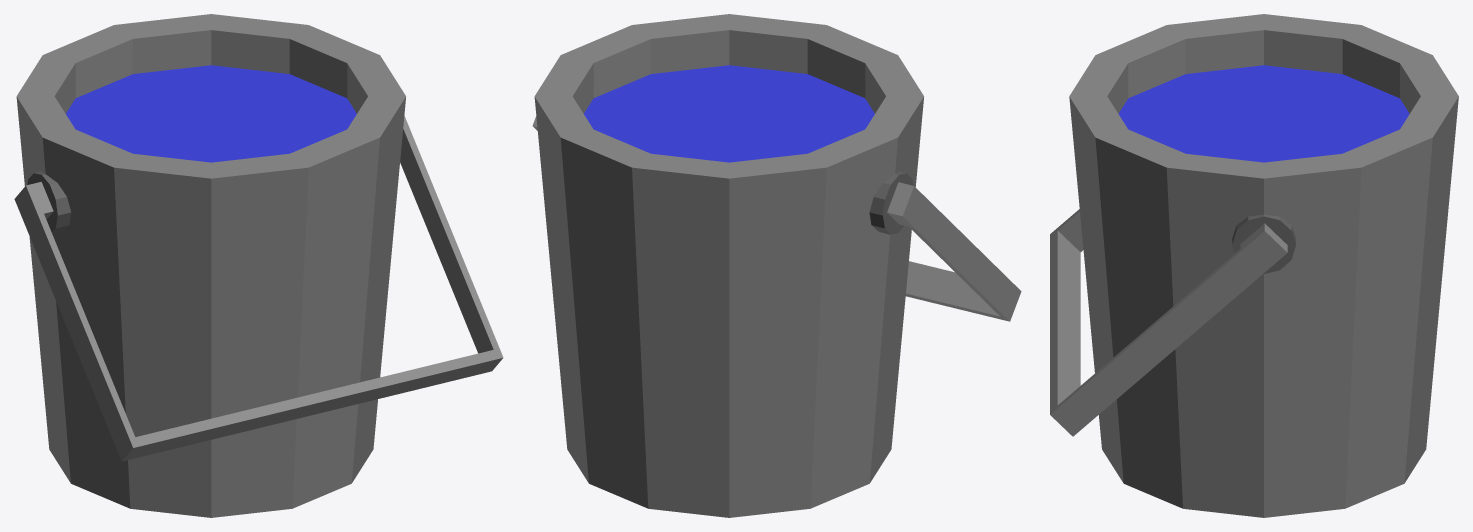
File: WaterBucket.fbx
The picture shows the model from 3 angles, left to right: view 1: azimuth 30°, elevation 25°; view 2: azimuth 150°, elevation 25°; view 3: azimuth 270°, elevation 25°; orthographic projection.
Visible parts, largest first — view 1: WaterBucket; view 2: WaterBucket; view 3: WaterBucket.
Boxes of the visible parts, x1=… form: WaterBucket: x1=14, y1=14, x2=503, y2=517; WaterBucket: x1=532, y1=14, x2=1021, y2=517; WaterBucket: x1=1050, y1=14, x2=1458, y2=517.
Size of the model in its own units: 0.6954 by 0.6338 by 0.665.
